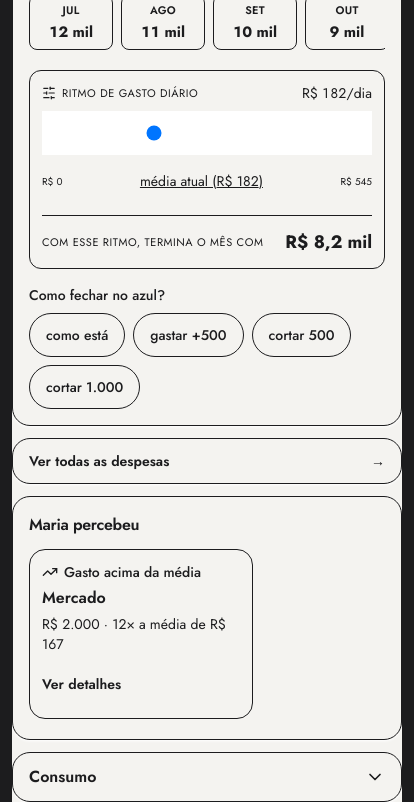
Test: MobileMonthCockpit › keeps canonical hero and consumption values stable without the fluxo block
The width and height of the screenshot is (414, 802).
(page scrolled)
Click the button "Consumo". click: x=63, y=777
box: x1=13 y1=753 x2=401 y2=801
(page scrolled)
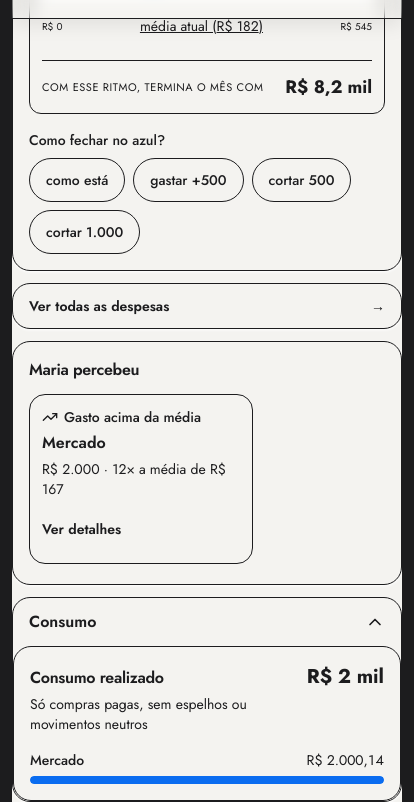
Expected: the element "Consumo realizado" shows "R$ 2 mil", x1=307 y1=662 x2=384 y2=691
